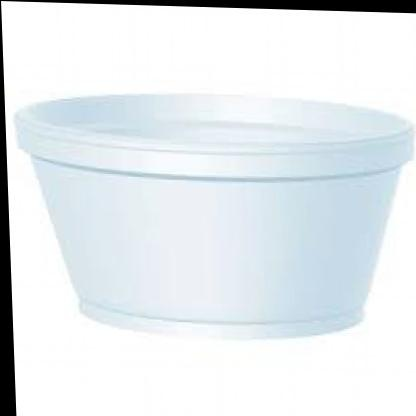trash: (16, 94, 412, 335)
